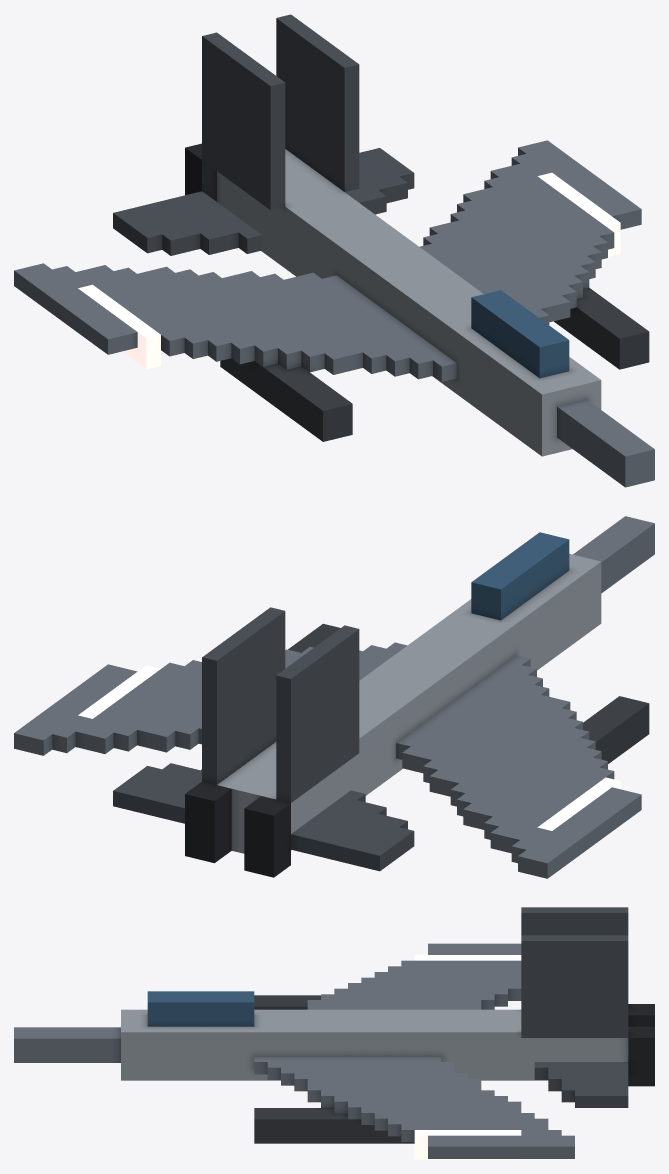
The model's file is cm_jet.glb.
3 views of the same model, one above another, from view 1: azimuth 30°, elevation 25°; view 2: azimuth 150°, elevation 25°; view 3: azimuth 270°, elevation 25° (orthographic). The views are drawn at different scales.
Visible parts, largest first — view 1: cm_jet_body; view 2: cm_jet_body; view 3: cm_jet_body.
Boxes of the visible parts, box(x1,y1,x2,y2) form: cm_jet_body: box(14, 14, 654, 487); cm_jet_body: box(14, 516, 654, 878); cm_jet_body: box(14, 907, 654, 1159).
Bounding box in the file's own units: 2.25 × 0.8125 × 3.
1 material, 1 textured.
